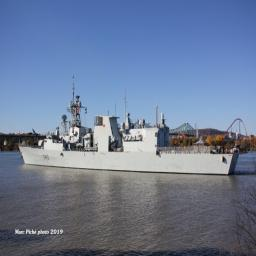Fragata: (16, 75, 241, 180)
